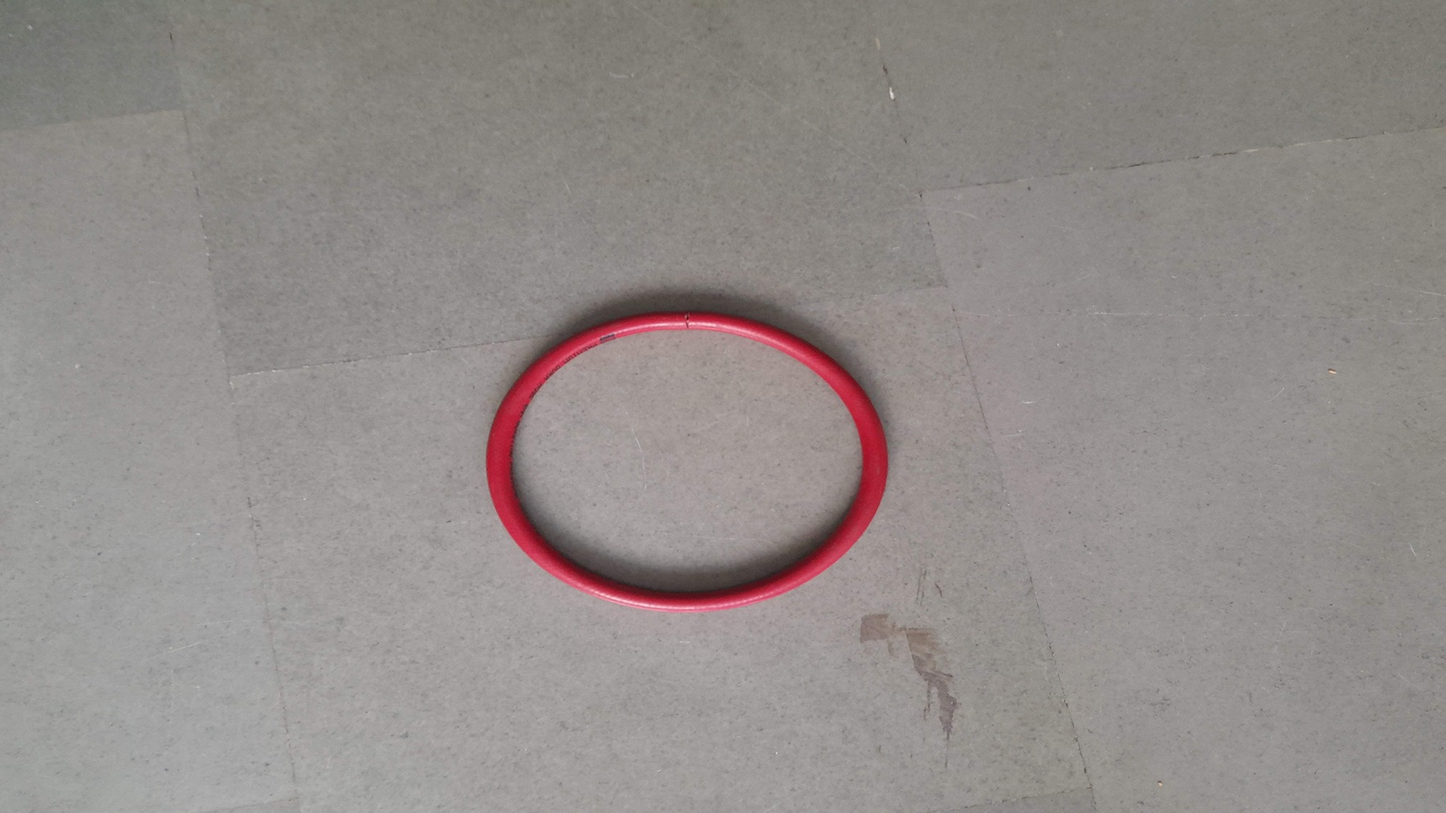Red ring: (484, 311, 889, 614)
